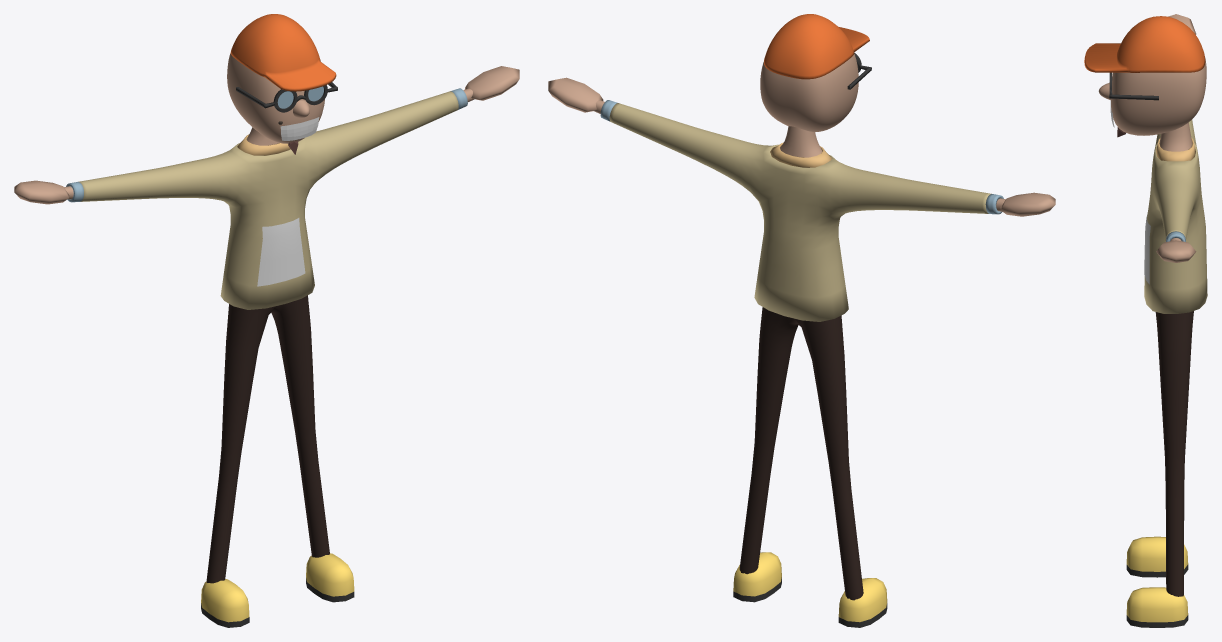
Rendered from Artista_mesh_terminado_mirando_izquierda.fbx.
3 views of the same model, side by side, from view 1: azimuth 30°, elevation 25°; view 2: azimuth 150°, elevation 25°; view 3: azimuth 270°, elevation 25° (orthographic).
Parts seen in each view (by area): view 1: Vert.001, Vert, Cube.007, Cube, Vert.004, Cube.004, Cube.005, Cube.003, Circle.003, Cube.001; view 2: Vert.001, Vert, Cube, Cube.007, Cube.005, Cube.004, Cube.003, Cube.001, Vert.003; view 3: Vert.001, Vert, Cube, Cube.007, Cube.004, Cube.005, Cube.003, Vert.003, Vert.004, Circle.003.
Boxes of the visible parts, x1,y1,x2,y2 form: Vert.001: (78,91,458,309); Vert: (64,88,474,583); Cube.007: (230,14,336,91); Cube: (227,53,324,143); Vert.004: (257,218,305,286); Cube.004: (306,553,354,602); Cube.005: (201,579,249,627); Cube.003: (464,66,519,100); Circle.003: (236,82,337,112); Cube.001: (14,180,69,204); Vert.001: (609,103,991,321); Vert: (593,100,1005,600); Cube: (760,54,858,131); Cube.007: (764,14,869,79); Cube.005: (838,578,887,627); Cube.004: (733,552,781,602); Cube.003: (548,77,603,112); Cube.001: (1000,192,1055,216); Vert.003: (770,142,831,167); Vert.001: (1144,119,1207,313); Vert: (1155,123,1193,596); Cube: (1111,57,1206,135); Cube.007: (1084,16,1205,72); Cube.004: (1126,587,1188,627); Cube.005: (1126,536,1188,577); Cube.003: (1156,240,1196,262); Vert.003: (1156,138,1195,161); Vert.004: (1144,215,1150,284); Circle.003: (1109,72,1158,100).
Bounding box in the file's own units: 128 × 141 × 27.34.
